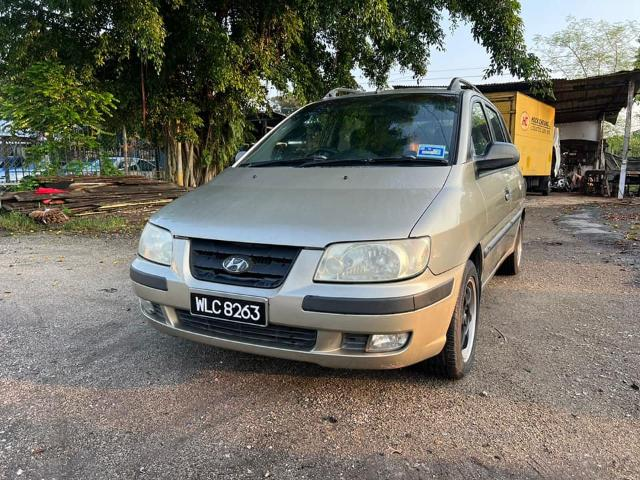License_Plate: (188, 290, 266, 329)
car: (133, 75, 537, 384)
